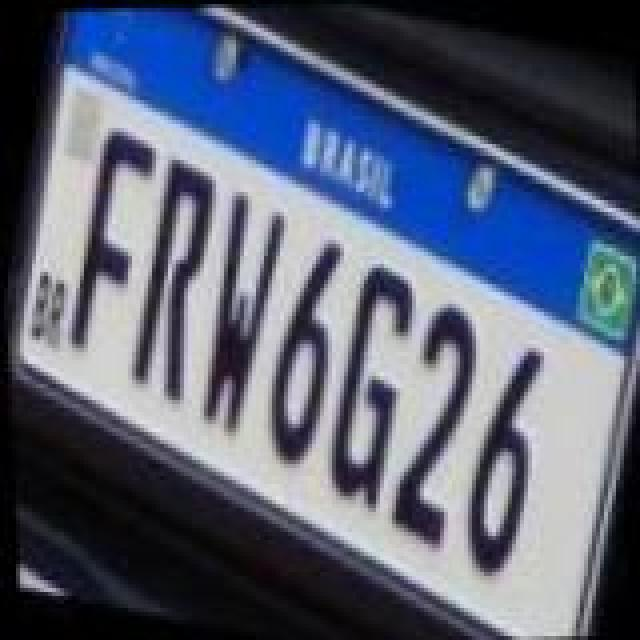2: (370, 292, 494, 552)
6: (442, 332, 562, 580), (242, 226, 358, 466)
F: (54, 120, 170, 360)
G: (304, 256, 428, 512)
R: (112, 150, 236, 406)
W: (174, 190, 298, 446)
